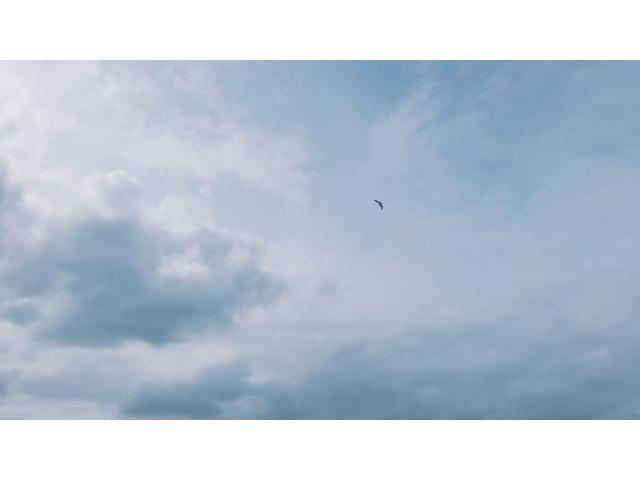Anti-Drone: (372, 196, 384, 212)
